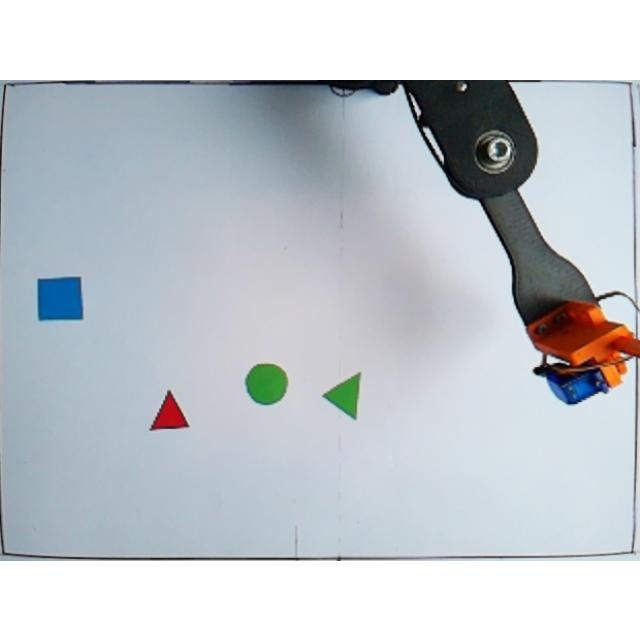blueSquare: (34, 274, 84, 322)
greenCircle: (244, 361, 288, 405)
greenTriangle: (320, 370, 362, 420)
redTriangle: (149, 386, 191, 430)
